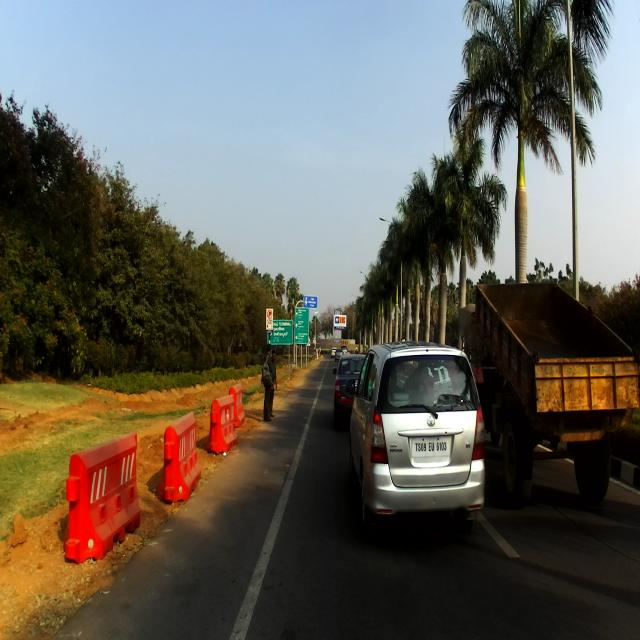barrier ahead at: (47, 432, 154, 566), (162, 412, 204, 512), (207, 396, 244, 457)
car ahead at: (348, 332, 491, 539)
person ahead at: (258, 344, 282, 427)
truck ahead at: (482, 273, 638, 490)
